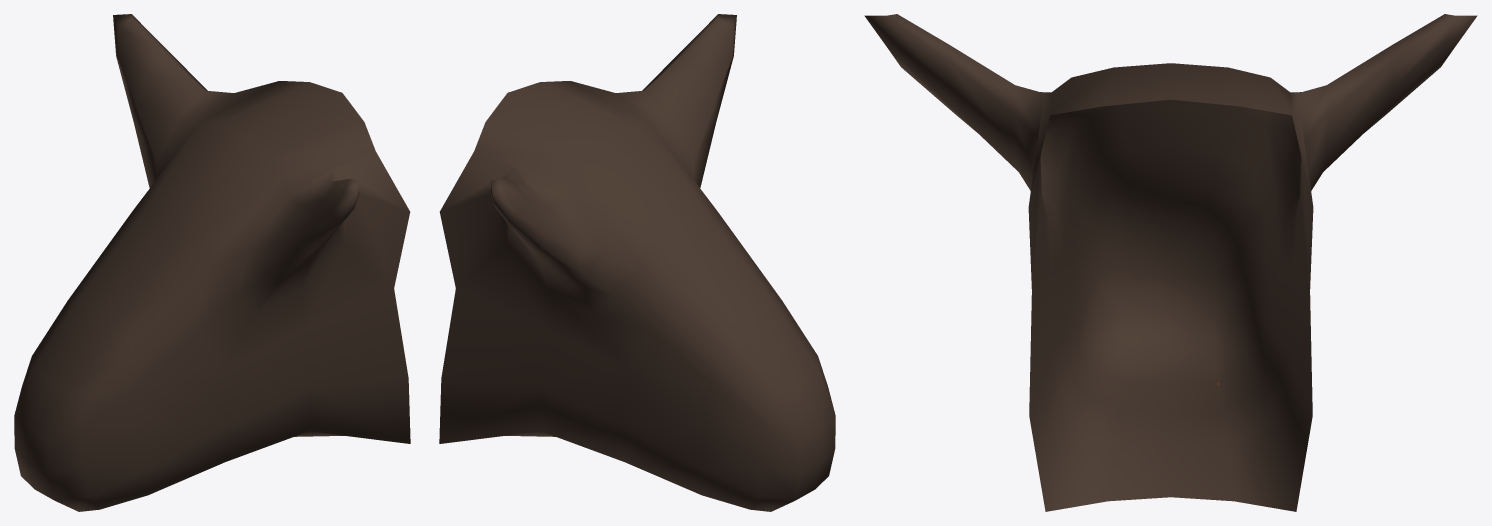
Rendered from Moose Head.fbx.
3 renders of one model, left to right at view 1: azimuth 30°, elevation 25°; view 2: azimuth 150°, elevation 25°; view 3: azimuth 270°, elevation 25°, orthographic. The views are drawn at different scales.
Parts seen in each view (by area): view 1: Moose Head; view 2: Moose Head; view 3: Moose Head.
Boxes of the visible parts, box(x1,y1,x2,y2) form: Moose Head: box(14, 14, 410, 511); Moose Head: box(439, 14, 835, 511); Moose Head: box(864, 14, 1477, 511).
Bounding box in the file's own units: 1.72 × 2.18 × 1.77.
